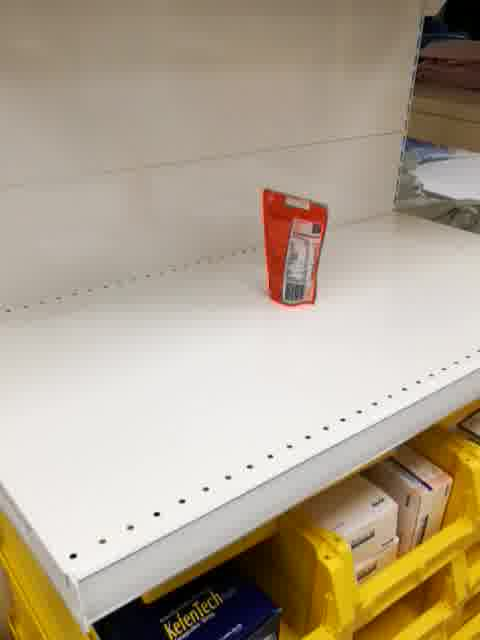whitechia: (258, 181, 329, 307)
